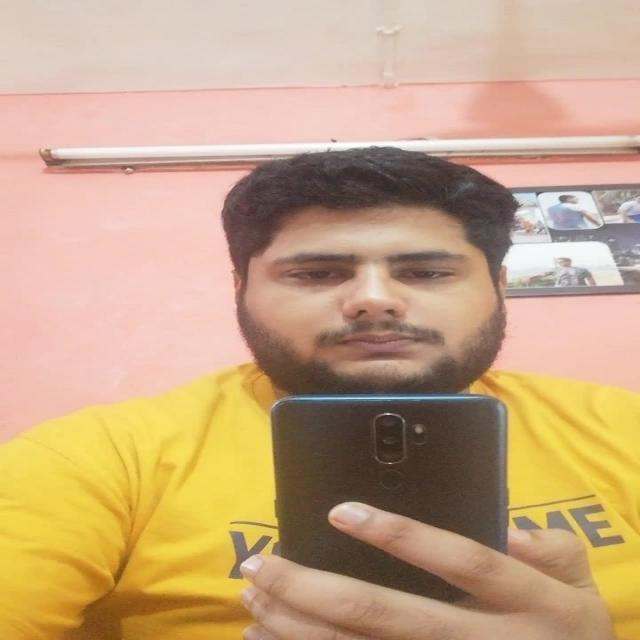Phone: (270, 395, 514, 600)
